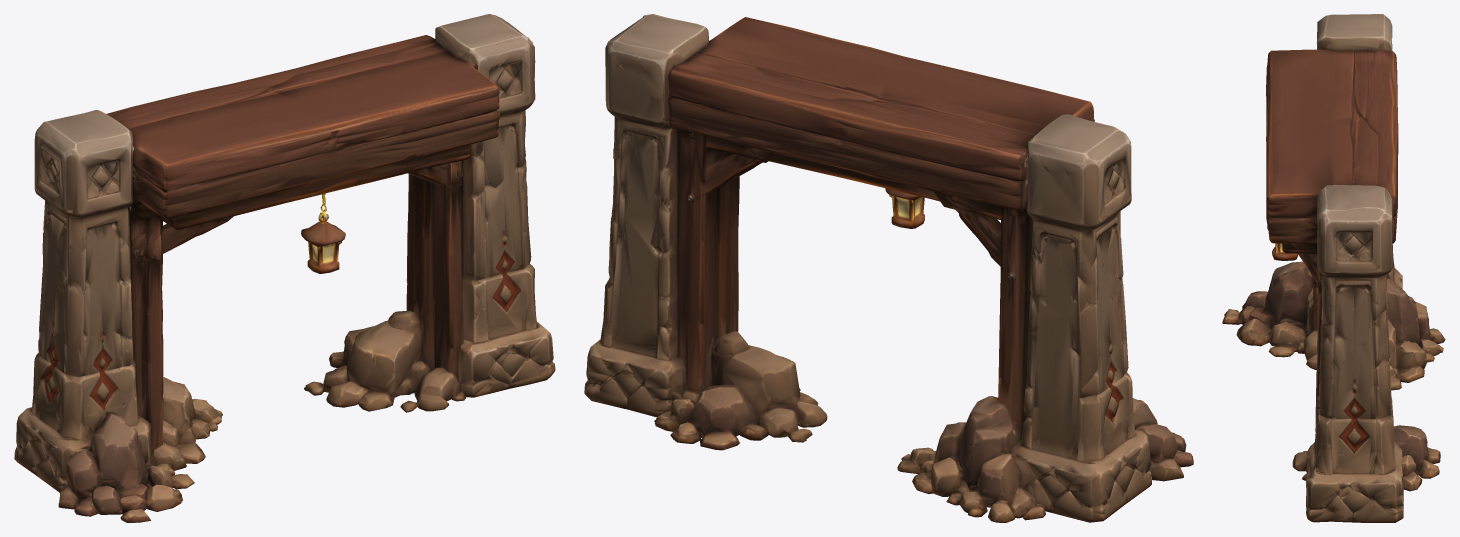
The model's file is arco_de_piedra.glb.
The picture shows the model from 3 angles, left to right: view 1: azimuth 30°, elevation 25°; view 2: azimuth 150°, elevation 25°; view 3: azimuth 270°, elevation 25°; orthographic projection. The views are drawn at different scales.
Visible parts, largest first — view 1: arco_de_piedra; view 2: arco_de_piedra; view 3: arco_de_piedra.
Boxes of the visible parts, x1=… form: arco_de_piedra: x1=14, y1=14, x2=555, y2=522; arco_de_piedra: x1=584, y1=14, x2=1193, y2=522; arco_de_piedra: x1=1222, y1=14, x2=1445, y2=522.
Size of what is drawn, in the model's own units: 4.67 by 3 by 1.98.
Materials: 1 (1 with a texture image).
